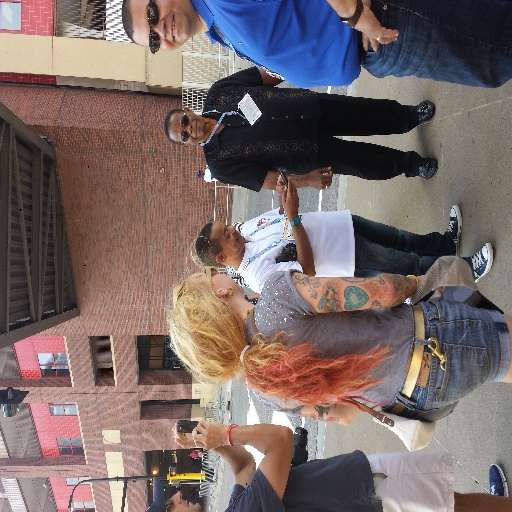hand: (352, 0, 399, 52), (194, 420, 221, 450), (280, 176, 300, 216), (169, 421, 196, 449), (302, 164, 331, 190), (275, 168, 288, 199), (415, 274, 424, 284)
